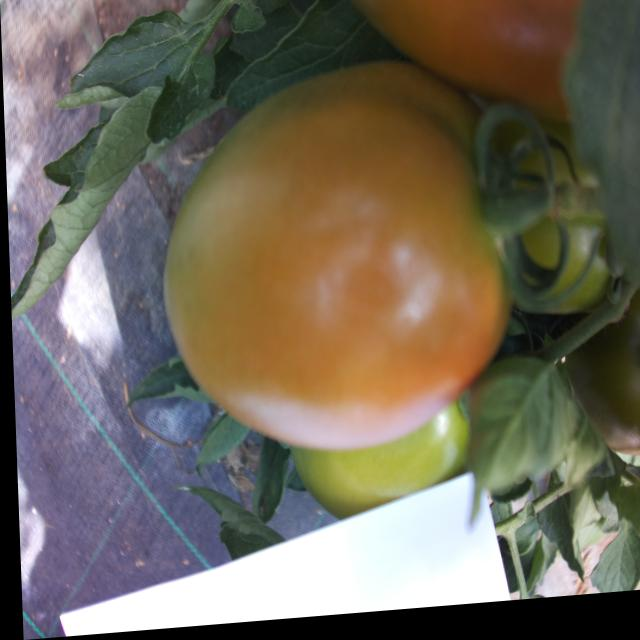sari: (127, 82, 545, 457)
